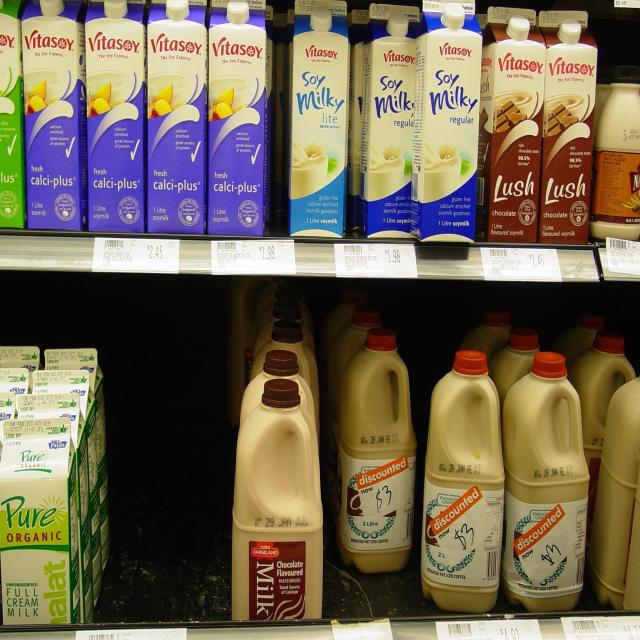empty_space: (110, 327, 221, 616)
